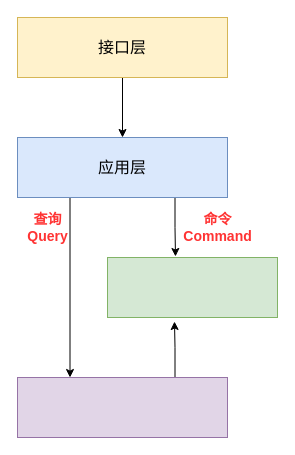
Image size: 295x455. Some labels were removed from this diagram. Here are the shapes that lost their labels. From the top down, the centre of each, then its label:
(192,287): 领域模型层
(122,407): 基础设施层
